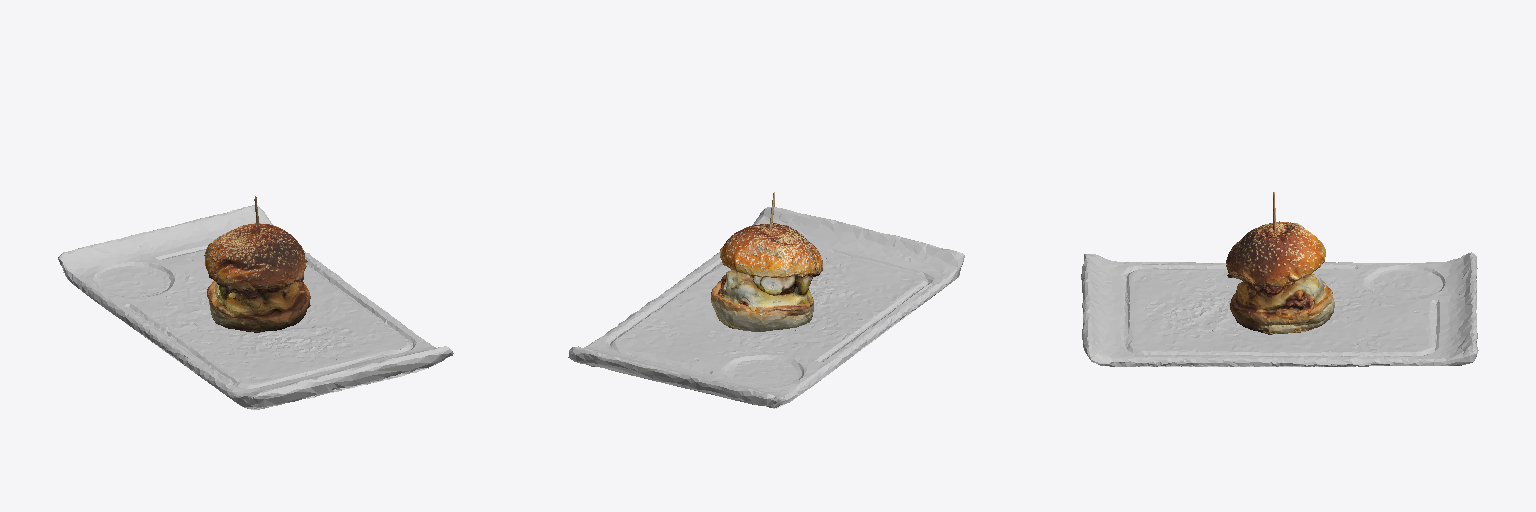
The picture shows the model from 3 angles: view 1: azimuth 30°, elevation 25°; view 2: azimuth 150°, elevation 25°; view 3: azimuth 270°, elevation 25°; orthographic projection.
Visible parts, largest first — view 1: mmGroup0; view 2: mmGroup0; view 3: mmGroup0.
Boxes of the visible parts, box(x1,y1,x2,y2) form: mmGroup0: box(58, 196, 453, 409); mmGroup0: box(568, 192, 964, 408); mmGroup0: box(1081, 192, 1478, 366).
Size of the model in its own units: 0.182 by 0.1048 by 0.3009.
2 materials, 1 textured.